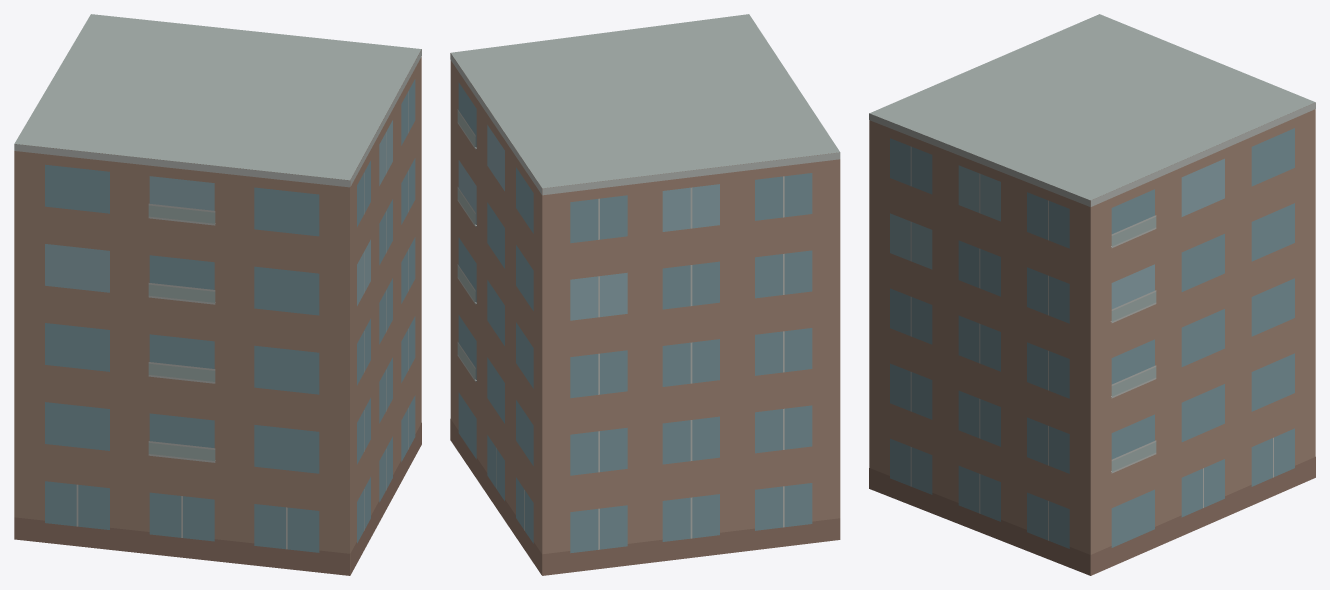
The model's file is survey-upis-32883892.glb.
The picture shows the model from 3 angles, left to right: view 1: azimuth 30°, elevation 25°; view 2: azimuth 150°, elevation 25°; view 3: azimuth 270°, elevation 25°; orthographic projection. The views are drawn at different scales.
Parts seen in each view (by area): view 1: survey-upis-32883892.tmp; view 2: survey-upis-32883892.tmp; view 3: survey-upis-32883892.tmp.
Part boxes in pixels (<box>): survey-upis-32883892.tmp: <box>14,14,421,575</box>; survey-upis-32883892.tmp: <box>450,14,840,575</box>; survey-upis-32883892.tmp: <box>869,14,1315,575</box>.
Bounding box in the file's own units: 14.5 × 13.6 × 14.67.
